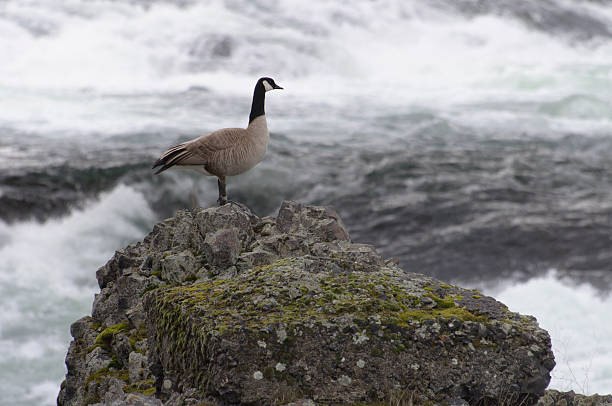goose: (146, 75, 286, 209)
